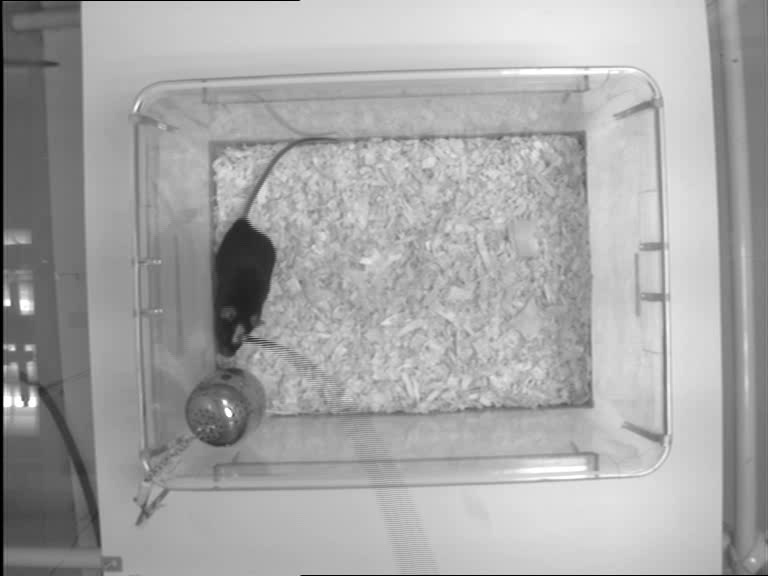mice: (212, 137, 339, 360)
